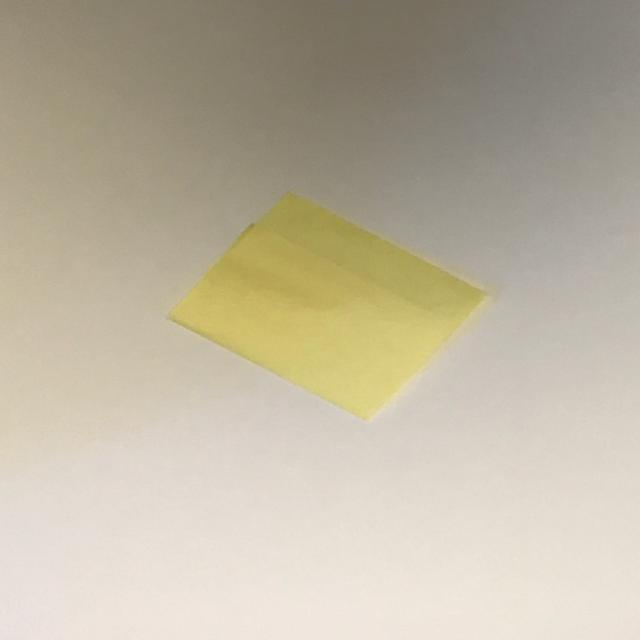paper: (167, 192, 500, 419)
